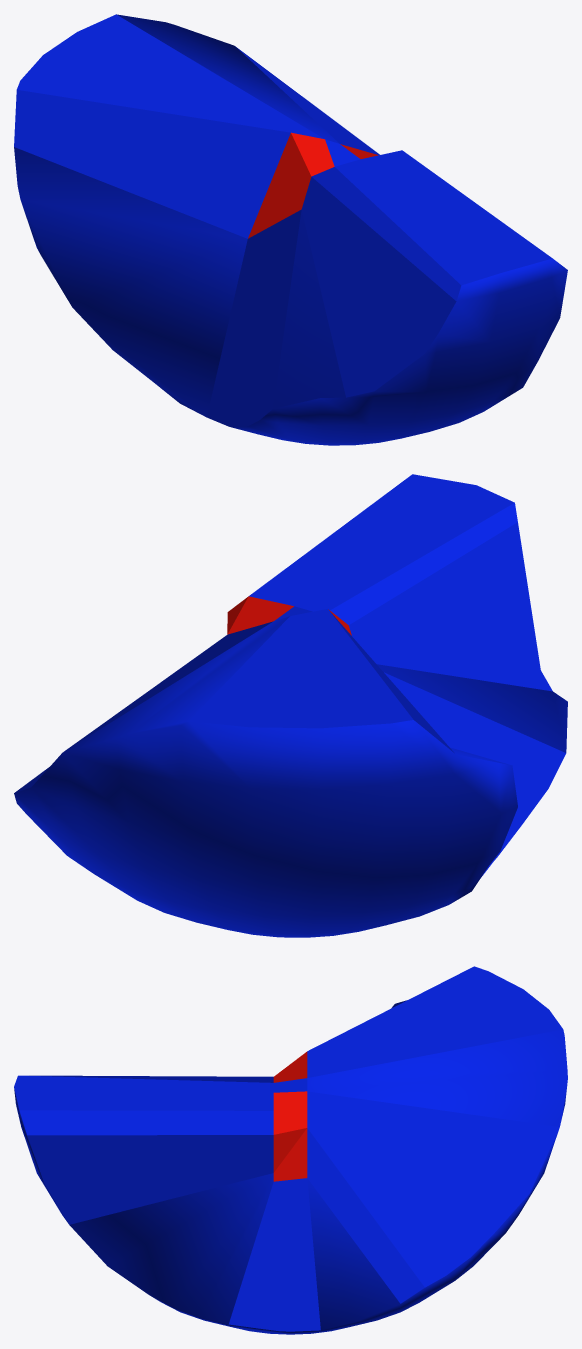
Rendered from Orbe_Cross_F2.fbx.
The picture shows the model from 3 angles, top to bottom: view 1: azimuth 30°, elevation 25°; view 2: azimuth 150°, elevation 25°; view 3: azimuth 270°, elevation 25°; orthographic projection. The views are drawn at different scales.
Visible parts, largest first — view 1: Orbe_Cross_F2; view 2: Orbe_Cross_F2; view 3: Orbe_Cross_F2.
Part boxes in pixels (bbox=[...]): Orbe_Cross_F2: bbox=[14, 14, 567, 445]; Orbe_Cross_F2: bbox=[14, 474, 567, 937]; Orbe_Cross_F2: bbox=[14, 966, 567, 1334].
Size of the model in its own units: 149 by 100 by 198.
